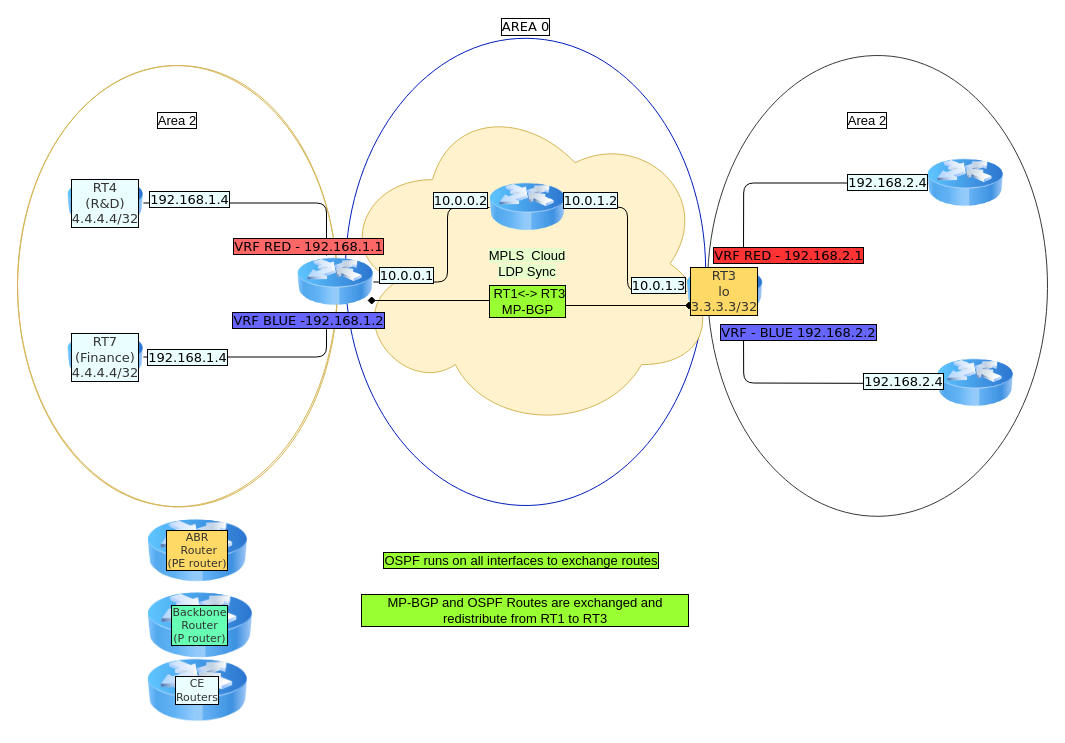
The diagram is 1065 pixels wide and 743 high, and some of its shapes have lost their labels. The centre of each missing label's shape, as x and y in pixels:
"RT1 lo 1.1.1.1/32" goes at (335,281).
"RT2 lo 2.2.2.2/32" goes at (527,206).
"RT5 (R&D) 6.6.6.6/32" goes at (965,182).
"RT6 (Finance) 6.6.6.6/32" goes at (975,382).
